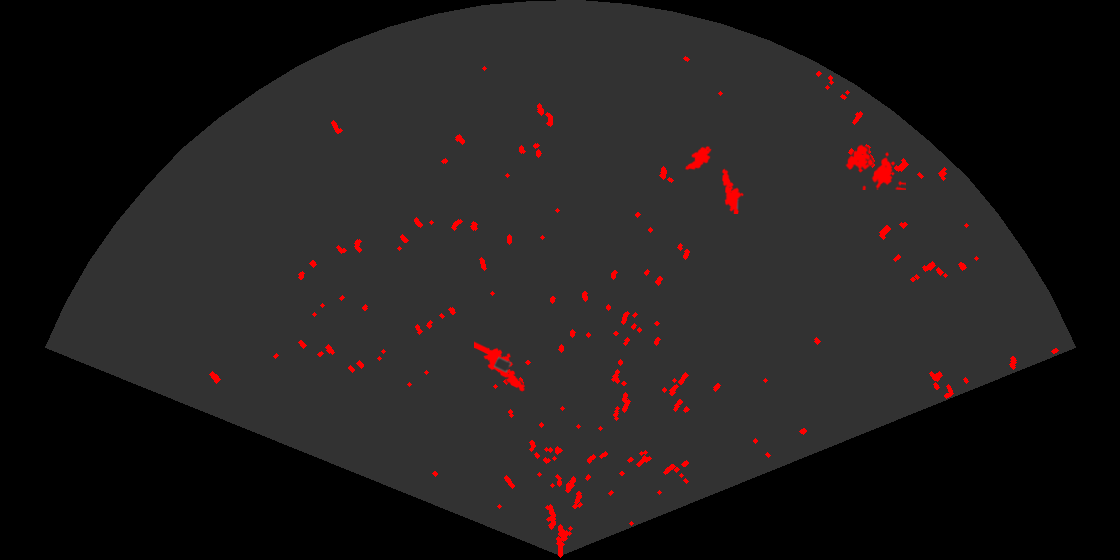AUV: (683, 144, 713, 172)
cage: (844, 143, 906, 190)
frogman: (474, 340, 527, 393), (720, 168, 745, 214)
